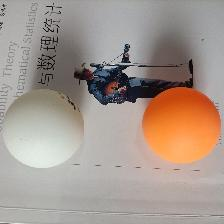WhiteBall: (1, 88, 84, 169)
YellowBall: (140, 86, 221, 164)
